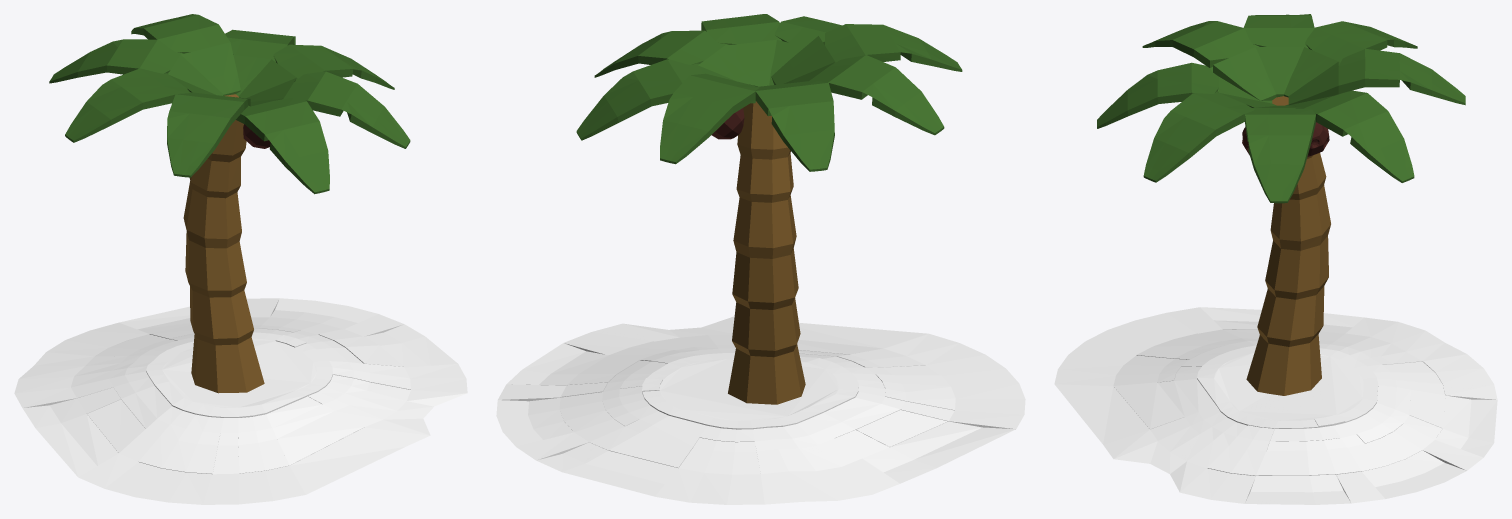
File: island.glb
The picture shows the model from 3 angles, left to right: view 1: azimuth 30°, elevation 25°; view 2: azimuth 150°, elevation 25°; view 3: azimuth 270°, elevation 25°; orthographic projection. The views are drawn at different scales.
Visible parts, largest first — view 1: PalmTree; view 2: PalmTree; view 3: PalmTree.
Part boxes in pixels (left/top/right/bottom): PalmTree: left=14, top=14, right=467, bottom=504; PalmTree: left=496, top=14, right=1025, bottom=504; PalmTree: left=1054, top=14, right=1497, bottom=504.
Size of the model in its own units: 15.26 by 12.22 by 14.49.
